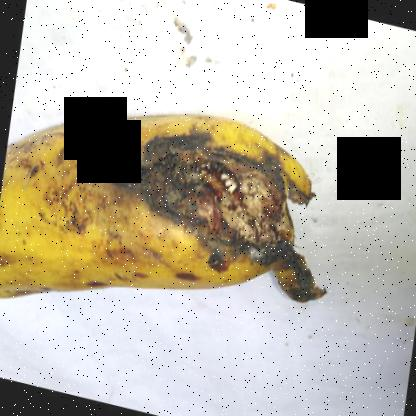rotten: (114, 109, 326, 323)
